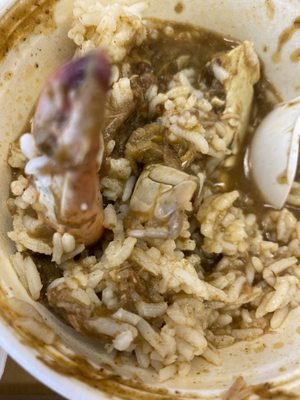sandwich: (0, 3, 300, 396)
